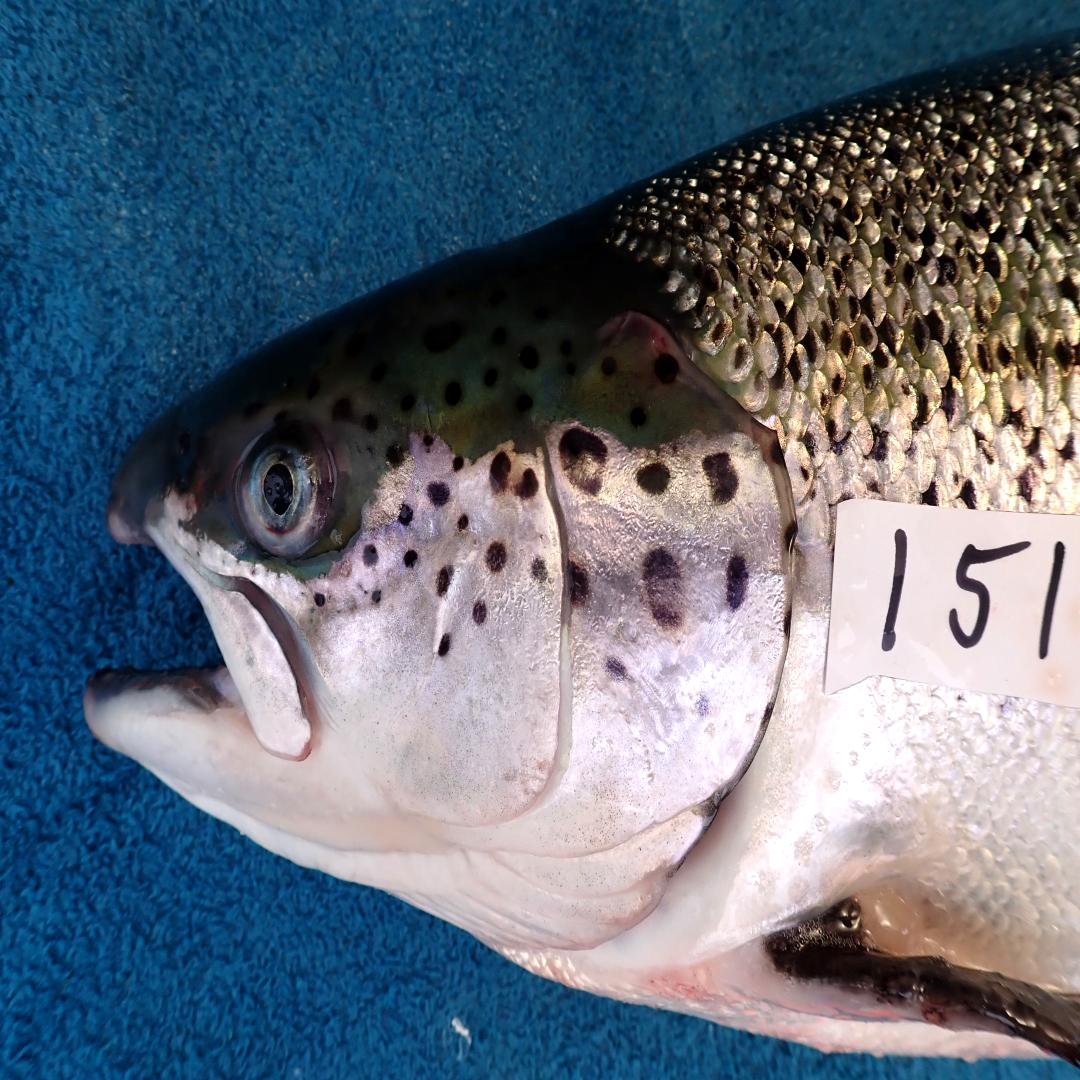roi: (316, 416, 795, 965)
